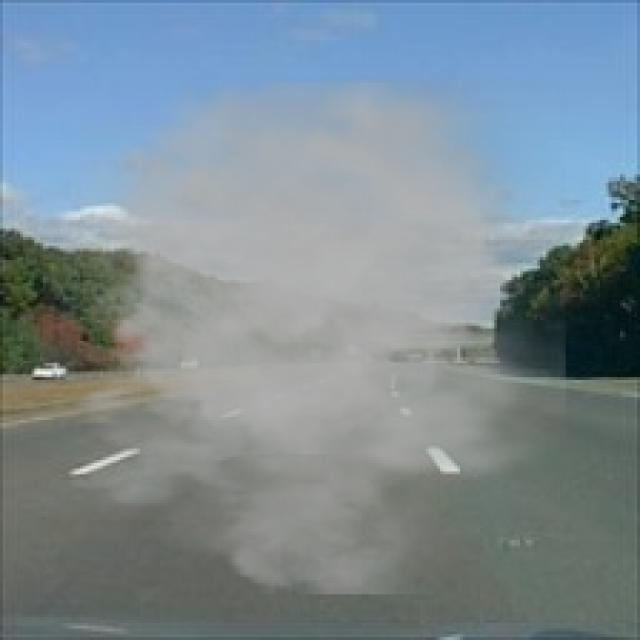smoke: (14, 49, 566, 594)
